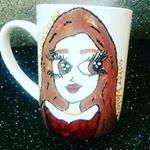cups: (1, 1, 135, 143)
